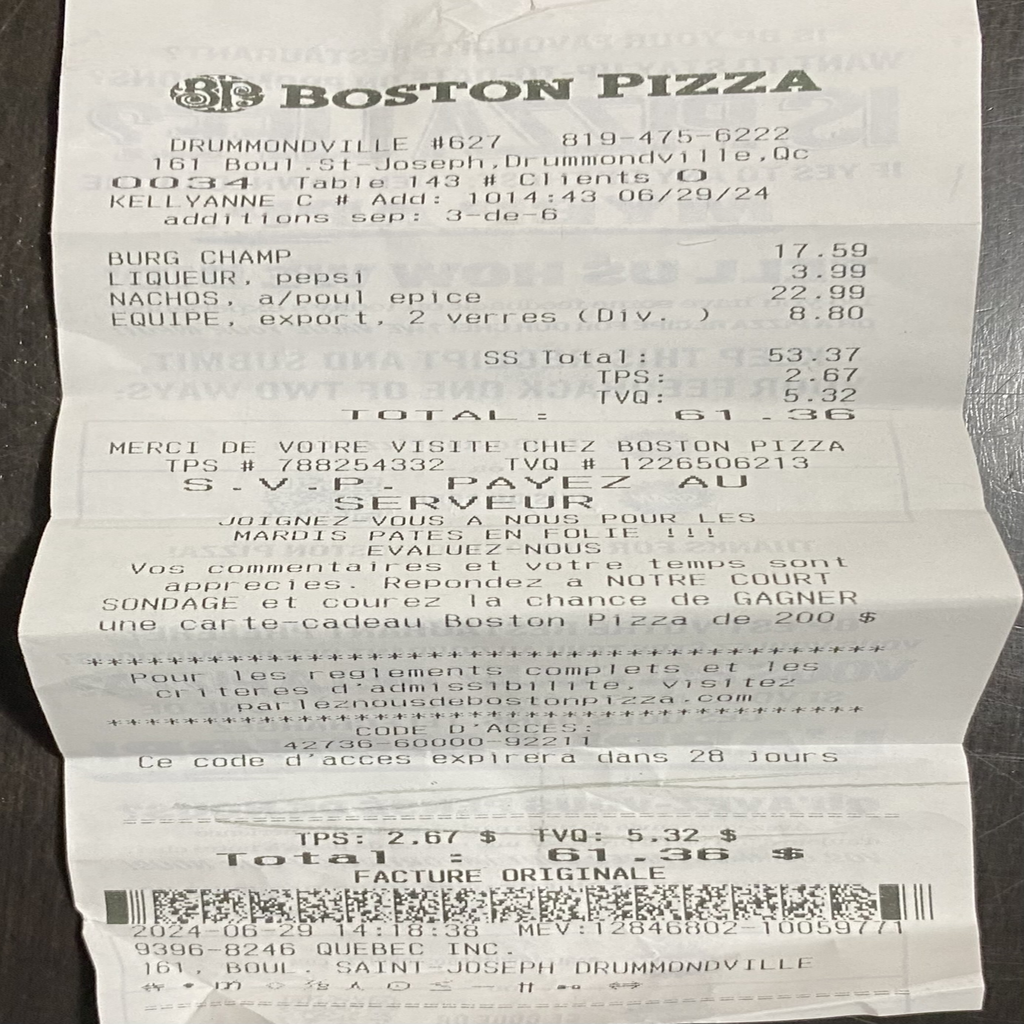recipt: (13, 0, 1022, 1016)
